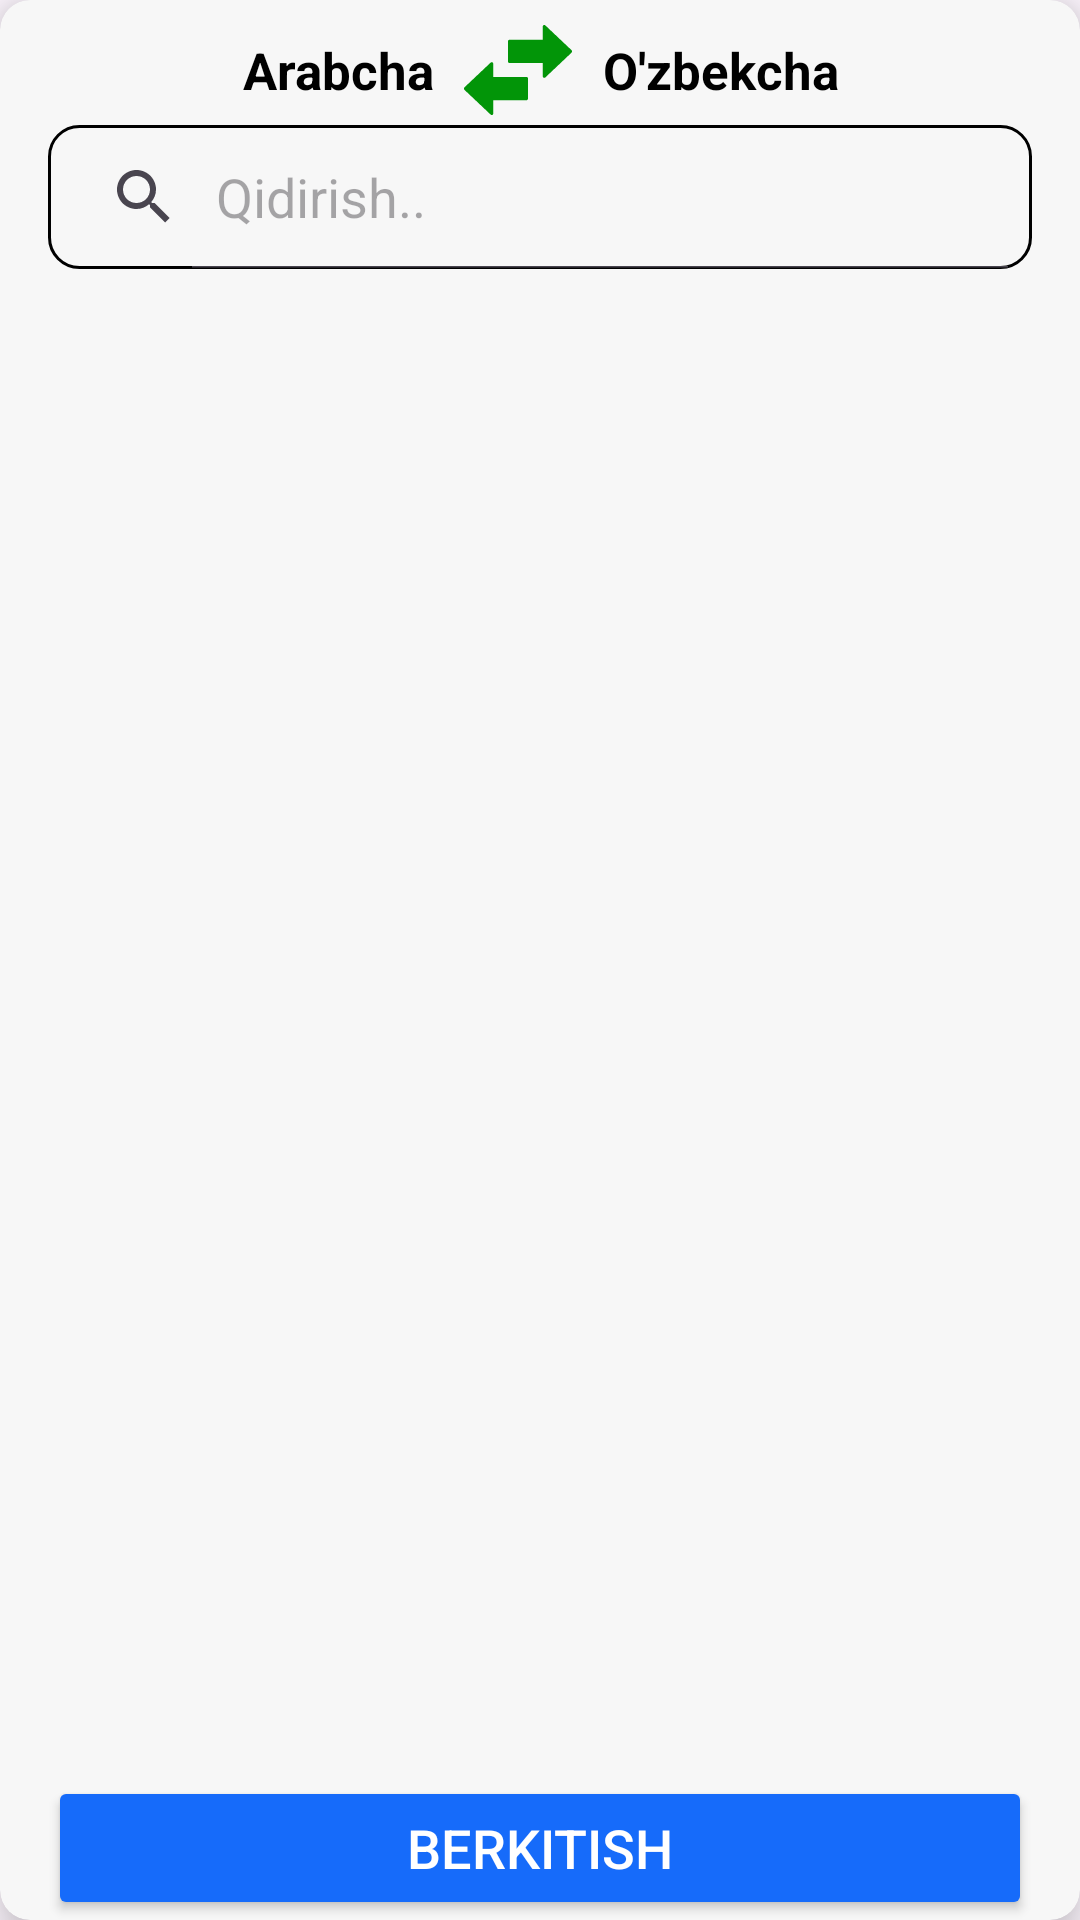

Icon bounding boxes for this 1080 x 1920 phone screenshot, format box=[x1, y1, x2, y2]:
change: box=[464, 25, 572, 115]
